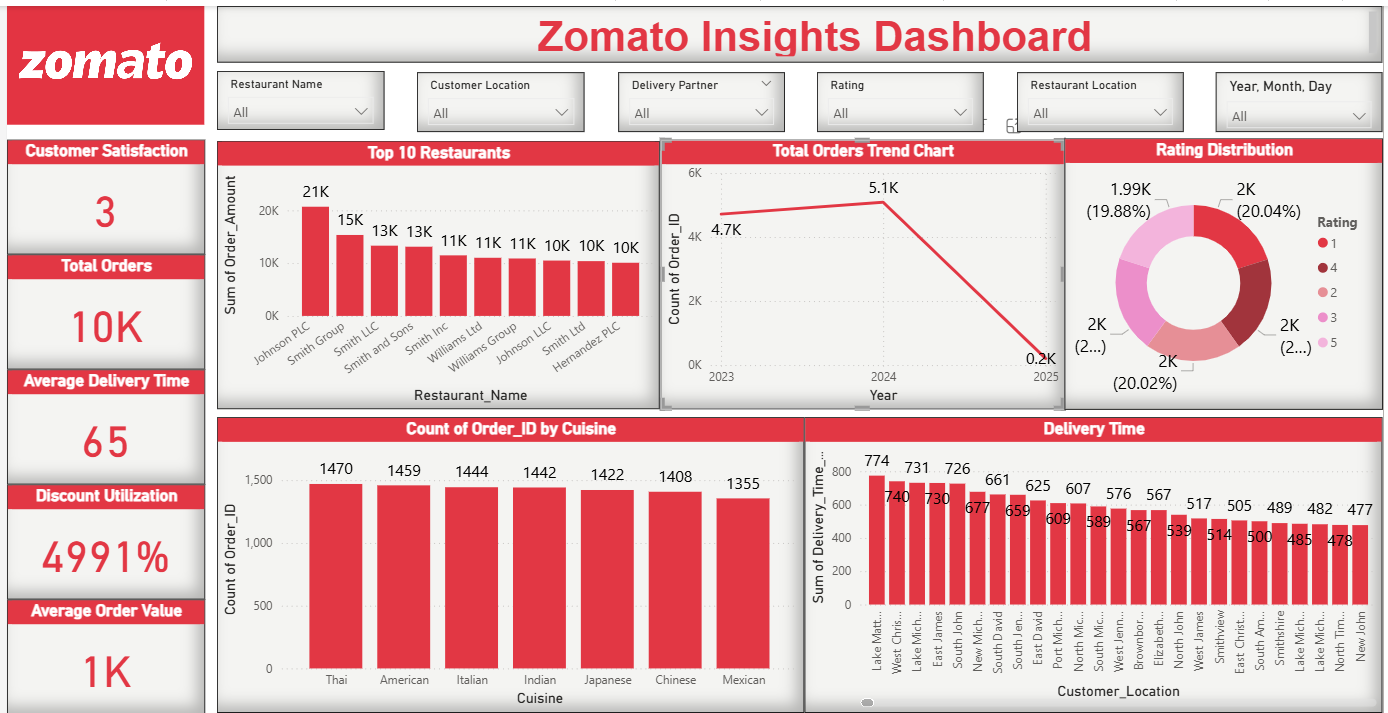

The dashboard page shown, as its layout file describes it:
{"tool":"powerbi","page":{"name":"Page 1","canvas":[1400,720],"ordinal":0},"visuals":[{"type":"lineChart","title":"Total Orders Trend Chart","fields":{"Category":["Sheet1.Order_Date.Variation.Date Hierarchy.Year"],"Y":["CountNonNull(Sheet1.Order_ID)"]},"box":[664.5,136.1,411.1,274.5],"z":0},{"type":"card","title":"Total Orders","fields":{"Values":["Count(Sheet1.Order_ID)"]},"box":[0,252.5,201.5,116.9],"z":0,"group":"g3"},{"type":"columnChart","title":"Top 10 Restaurants","fields":{"Category":["Sheet1.Restaurant_Name"],"Y":["Sum(Sheet1.Order_Amount)"]},"box":[214.1,137.4,450.5,273.2],"z":1000},{"type":"card","title":"Average Delivery Time","fields":{"Values":["Avg(Sheet1.Delivery_Time_Minutes)"]},"box":[0,369.5,201.5,116.9],"z":1000,"group":"g3"},{"type":"donutChart","title":"Rating Distribution","fields":{"Y":["CountNonNull(Sheet1.Order_ID)"],"Category":["Sheet1.Rating"]},"box":[1075.6,134.7,324.4,275.8],"z":2000},{"type":"card","title":"Average Order Value","fields":{"Values":["Avg(Sheet1.Order_Amount)"]},"box":[0,603.3,201.5,116.9],"z":2000,"group":"g3"},{"type":"textbox","box":[214.1,0,1185.9,57.8],"z":3000},{"type":"card","title":"Customer Satisfaction ","fields":{"Values":["Avg(Sheet1.Rating)"]},"box":[0,135.6,201.5,116.9],"z":3000,"group":"g3"},{"type":"image","box":[0,0,200.9,120.8],"z":4000},{"type":"card","title":"Discount Utilization","fields":{"Values":["Sheet1.Discount Utilization (%)"]},"box":[0,486.4,201.5,116.9],"z":4000,"group":"g3"},{"type":"group","id":"g1","title":"Group 1","box":[214.1,66,1185.9,61.7],"z":5000},{"type":"group","id":"g2","title":"Group 2","box":[214.1,418.9,1185.9,300.8],"z":6000},{"type":"columnChart","title":"Delivery Time","fields":{"Category":["Sheet1.Customer_Location"],"Y":["Sum(Sheet1.Delivery_Time_Minutes)"]},"box":[811.7,418.9,588.4,300.8],"z":6000,"group":"g2"},{"type":"group","id":"g3","title":"Group 3","box":[0,135.6,201.5,584.7],"z":7000},{"type":"columnChart","fields":{"Category":["Sheet1.Cuisine"],"Y":["CountNonNull(Sheet1.Order_ID)"]},"box":[214.1,418.9,597.6,300.8],"z":9000,"group":"g2"},{"type":"slicer","fields":{"Values":["Sheet1.Restaurant_Name"]},"box":[214.1,66,170,60],"z":12000,"group":"g1"},{"type":"slicer","fields":{"Values":["Sheet1.Restaurant_Location"]},"box":[1027.7,67.3,169.4,60.4],"z":13000,"group":"g1"},{"type":"slicer","fields":{"Values":["Sheet1.Delivery_Partner"]},"box":[621.8,67.3,169.4,60.4],"z":14000,"group":"g1"},{"type":"slicer","fields":{"Values":["Sheet1.Rating"]},"box":[824.8,67.3,169.4,60.4],"z":15000,"group":"g1"},{"type":"slicer","fields":{"Values":["Sheet1.Customer_Location"]},"box":[417.6,67.3,170.7,60.4],"z":16000,"group":"g1"},{"type":"slicer","fields":{"Values":["Sheet1.Order_Date.Variation.Date Hierarchy.Year","Sheet1.Order_Date.Variation.Date Hierarchy.Month","Sheet1.Order_Date.Variation.Date Hierarchy.Day"]},"box":[1230.6,67.3,169.4,60.4],"z":17000,"group":"g1"}]}

Visuals, with their boxes in screenshot pixels (x1, y1, x2, y2), scaled from the page's 1400x720 canvas onto the 1388x713 screenshot:
"Total Orders Trend Chart" lineChart: Rect(659, 135, 1066, 407)
"Total Orders" card: Rect(0, 250, 200, 366)
"Top 10 Restaurants" columnChart: Rect(212, 136, 659, 407)
"Average Delivery Time" card: Rect(0, 366, 200, 482)
"Rating Distribution" donutChart: Rect(1066, 133, 1387, 407)
"Average Order Value" card: Rect(0, 597, 200, 712)
textbox: Rect(212, 0, 1387, 57)
"Customer Satisfaction " card: Rect(0, 134, 200, 250)
image: Rect(0, 0, 199, 120)
"Discount Utilization" card: Rect(0, 482, 200, 597)
"Group 1" group: Rect(212, 65, 1387, 126)
"Group 2" group: Rect(212, 415, 1387, 712)
"Delivery Time" columnChart: Rect(805, 415, 1387, 712)
"Group 3" group: Rect(0, 134, 200, 712)
columnChart - Sheet1.Cuisine x CountNonNull(Sheet1.Order_ID): Rect(212, 415, 805, 712)
slicer - Sheet1.Restaurant_Name: Rect(212, 65, 381, 125)
slicer - Sheet1.Restaurant_Location: Rect(1019, 67, 1187, 126)
slicer - Sheet1.Delivery_Partner: Rect(616, 67, 784, 126)
slicer - Sheet1.Rating: Rect(818, 67, 986, 126)
slicer - Sheet1.Customer_Location: Rect(414, 67, 583, 126)
slicer - Sheet1.Order_Date.Variation.Date Hierarchy.Year x Sheet1.Order_Date.Variation.Date Hierarchy.Month: Rect(1220, 67, 1387, 126)
